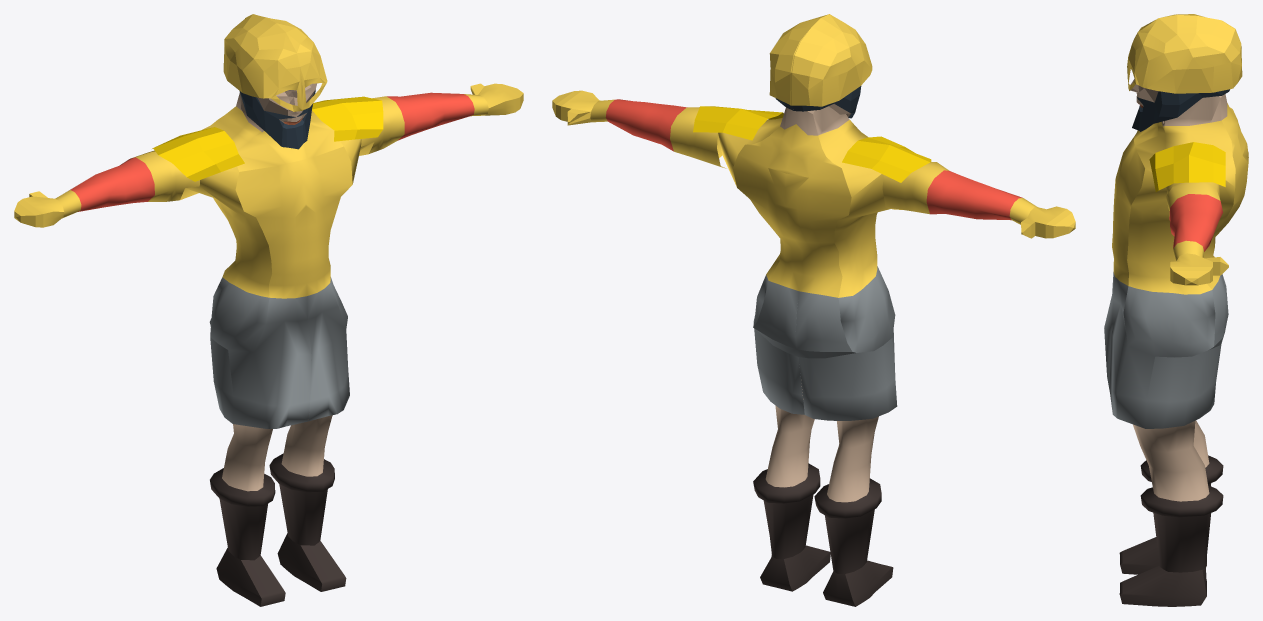
The model's file is warrior3 (1).fbx.
3 views of the same model, side by side, from view 1: azimuth 30°, elevation 25°; view 2: azimuth 150°, elevation 25°; view 3: azimuth 270°, elevation 25° (orthographic). The views are drawn at different scales.
Visible parts, largest first — view 1: Box001, Helmet, CABEZA; view 2: Box001, Helmet, CABEZA; view 3: Box001, Helmet, CABEZA.
Boxes of the visible parts, box(x1,y1,x2,y2) form: Box001: box(14, 83, 523, 606); Helmet: box(223, 14, 327, 111); CABEZA: box(239, 83, 317, 149); Box001: box(552, 90, 1075, 606); Helmet: box(769, 14, 872, 106); CABEZA: box(775, 86, 861, 118); Box001: box(1104, 94, 1248, 606); Helmet: box(1127, 14, 1242, 93); CABEZA: box(1130, 79, 1229, 131).
Bounding box in the file's own units: 2952 × 3102 × 713.
